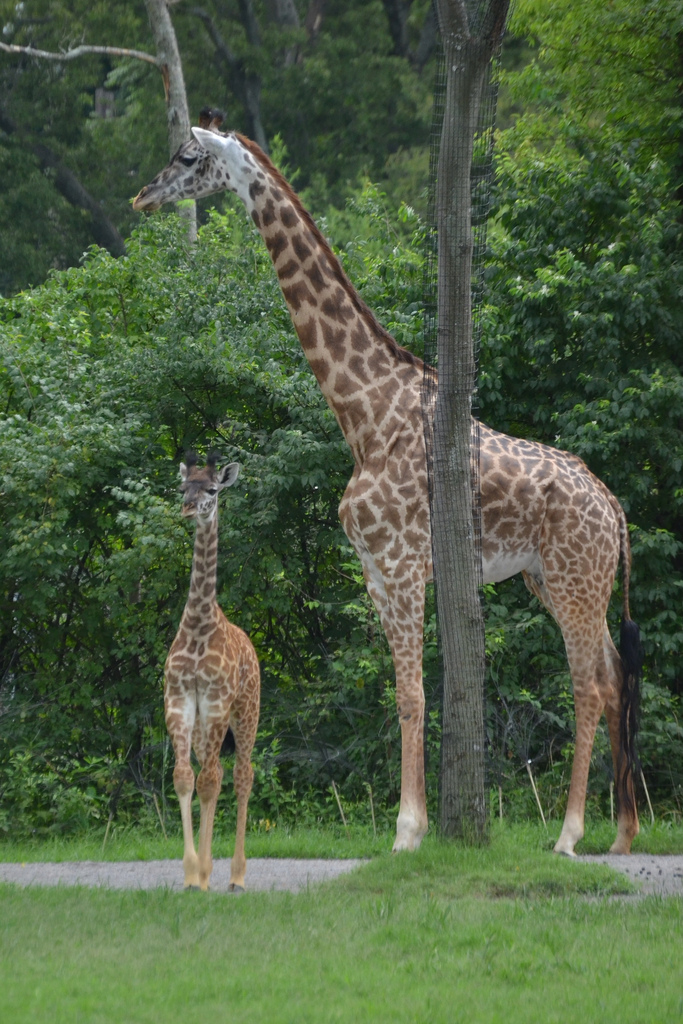giraffe: (156, 115, 655, 847), (147, 442, 316, 895)
